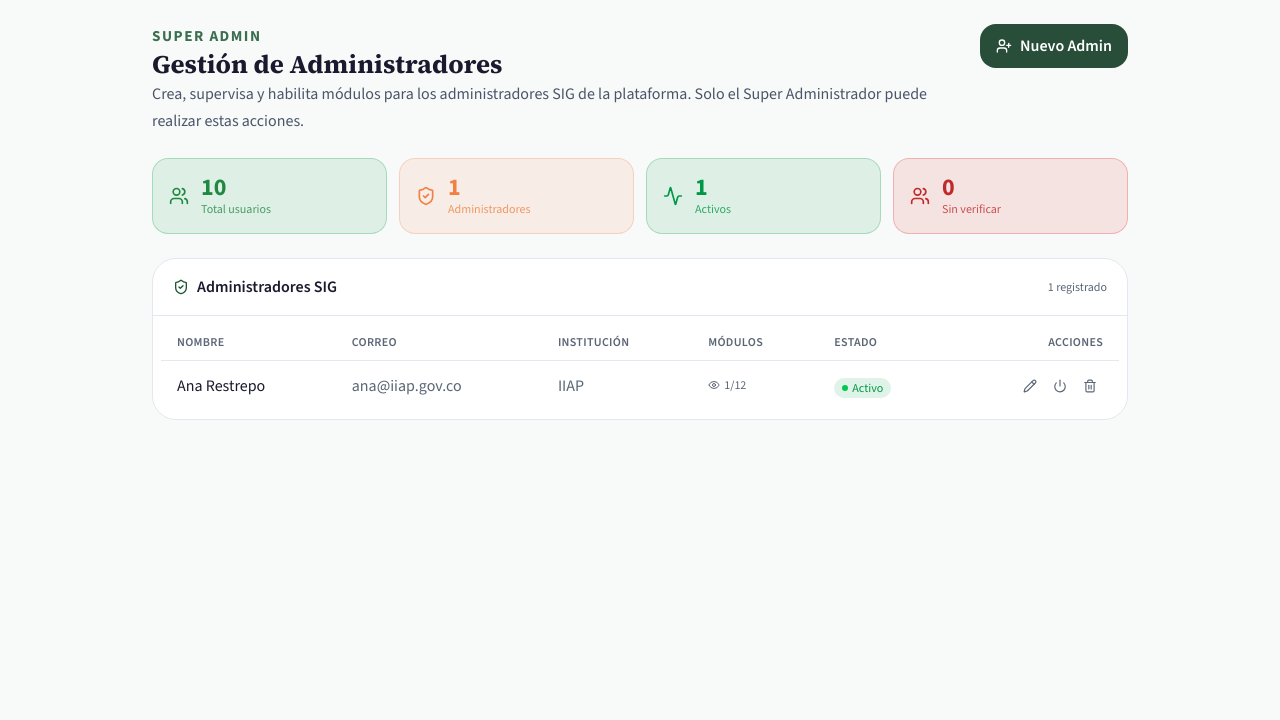
GestionAdmins — permisos por módulo › marcar "Editar" en un módulo también marca "Ver" automáticamente
The width and height of the screenshot is (1280, 720).
Click the button named "Editar módulos de Ana Restrepo" at x=1030, y=386, box x1=1017 y1=373 x2=1043 y2=399
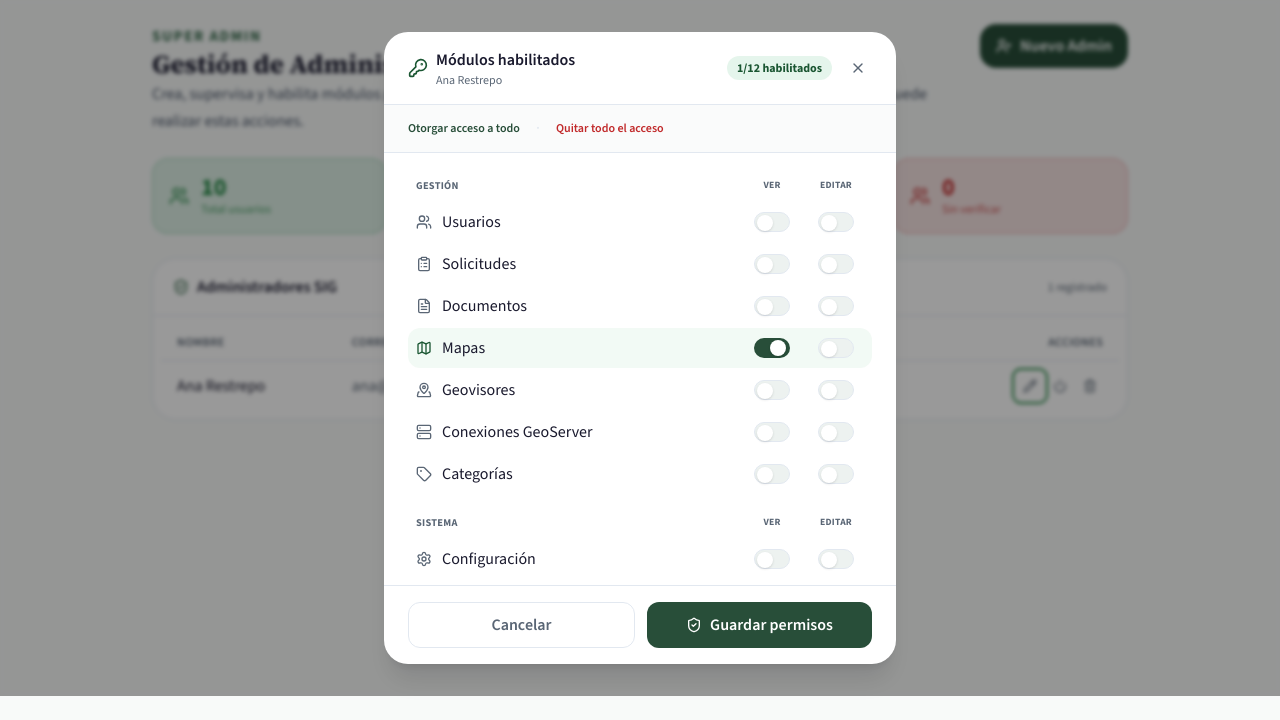
Click the switch named "Editar Usuarios" at x=836, y=222, box x1=818 y1=212 x2=854 y2=232
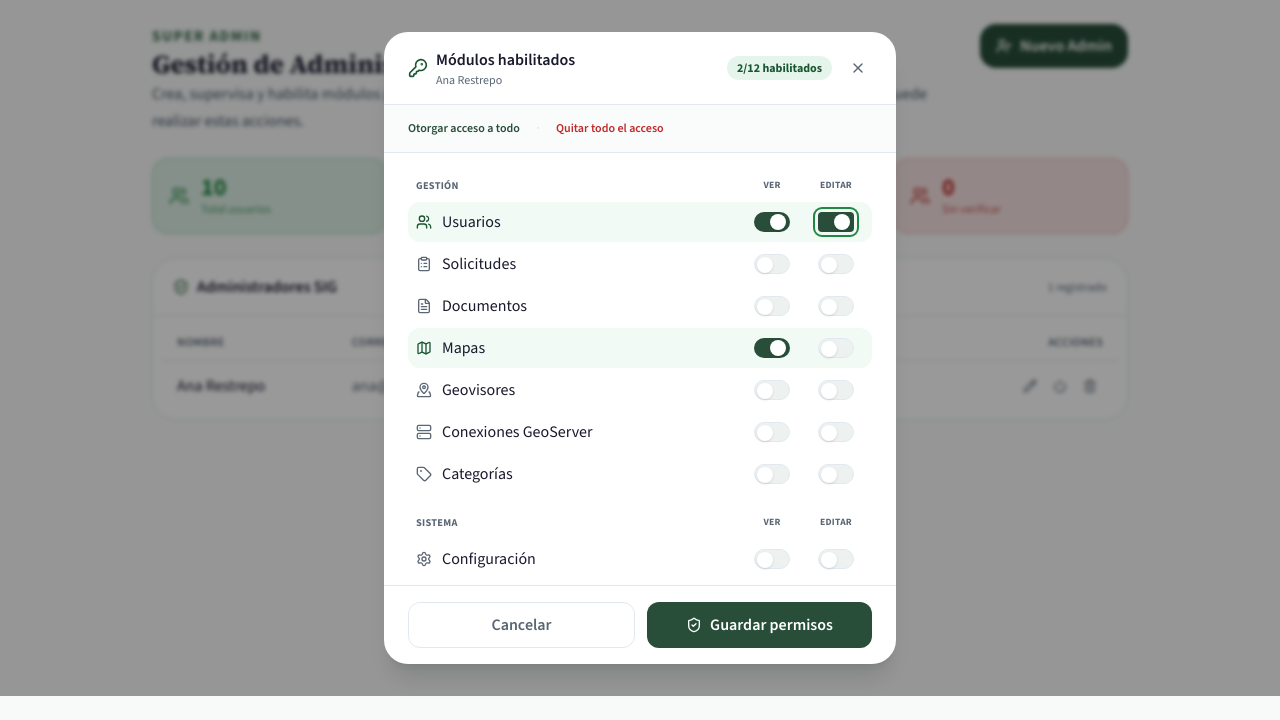
Expected: the switch named "Editar Usuarios" is checked, x1=818 y1=212 x2=854 y2=232
Expected: the switch named "Ver Usuarios" is checked, x1=754 y1=212 x2=790 y2=232
